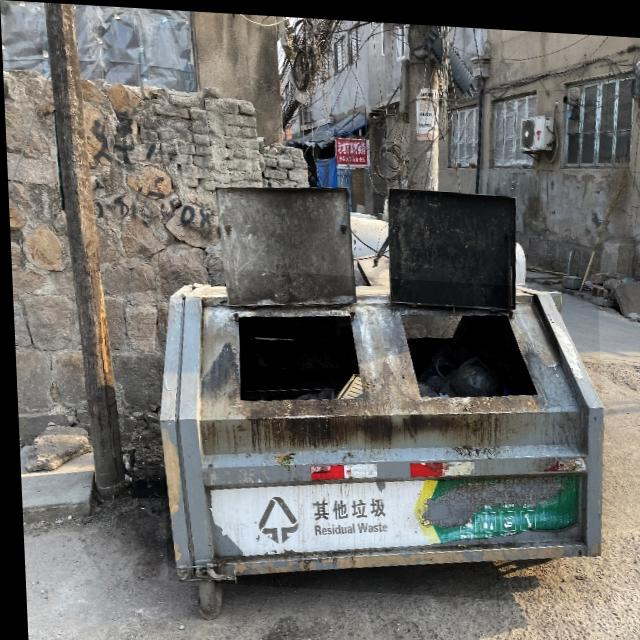garbage_bin: (152, 263, 606, 599)
